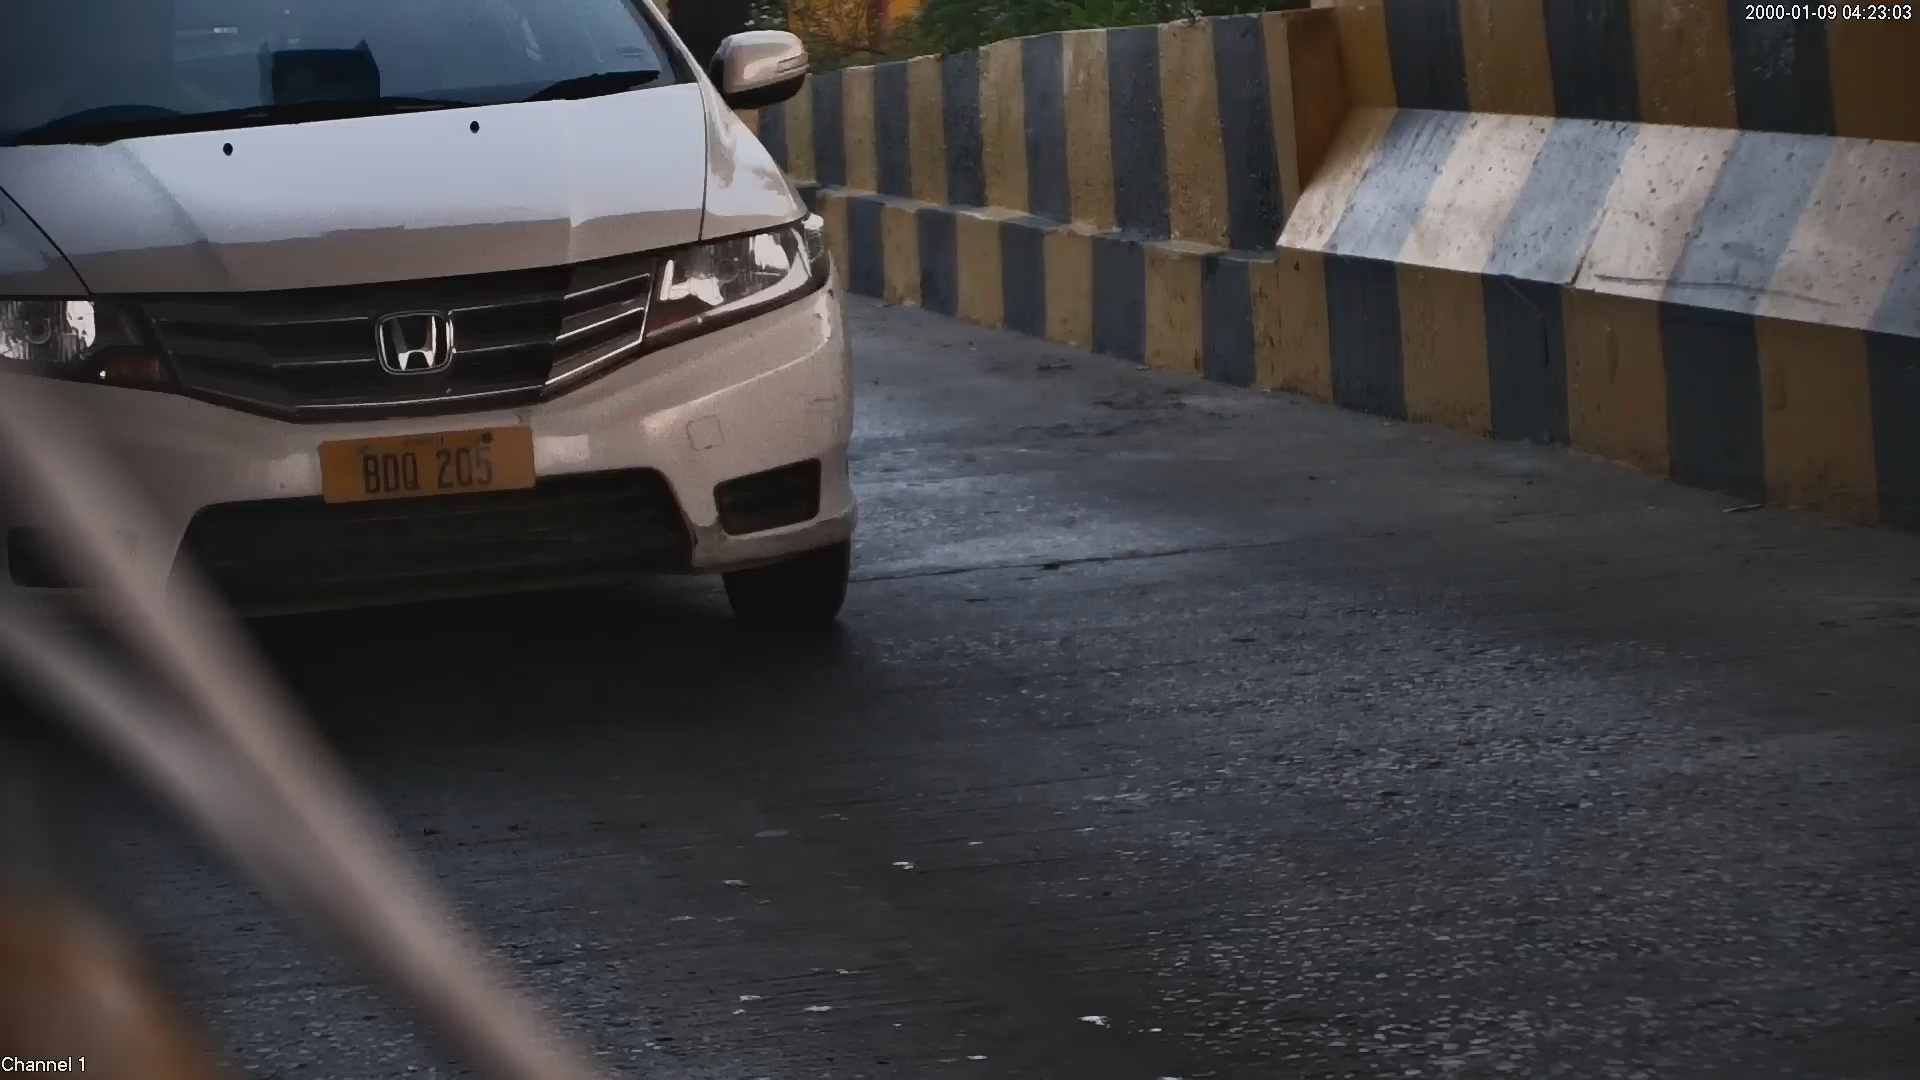Number_Plate: (306, 423, 550, 501)
Undefined: (665, 231, 806, 323), (4, 283, 126, 383), (363, 305, 471, 379)
